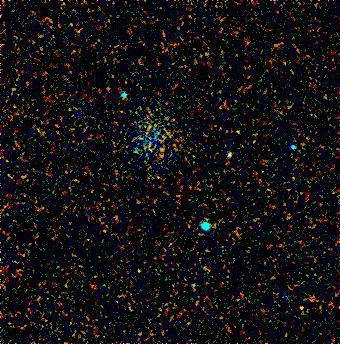star: (125, 252, 155, 282)
